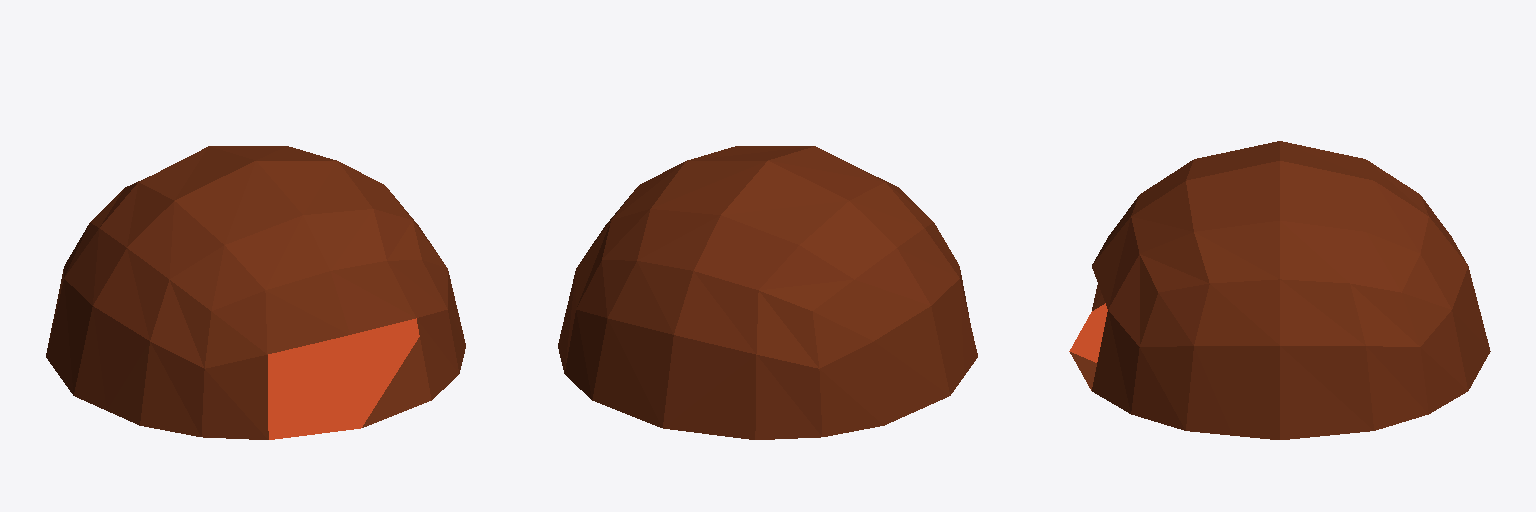
File: nest.obj
The picture shows the model from 3 angles: view 1: azimuth 30°, elevation 25°; view 2: azimuth 150°, elevation 25°; view 3: azimuth 270°, elevation 25°; orthographic projection.
Parts seen in each view (by area): view 1: Cube; view 2: Cube; view 3: Cube.
Boxes of the visible parts, box(x1,y1,x2,y2) form: Cube: box(46, 146, 465, 439); Cube: box(558, 146, 977, 439); Cube: box(1069, 141, 1490, 439).
Size of the model in its own units: 20 by 10 by 20.